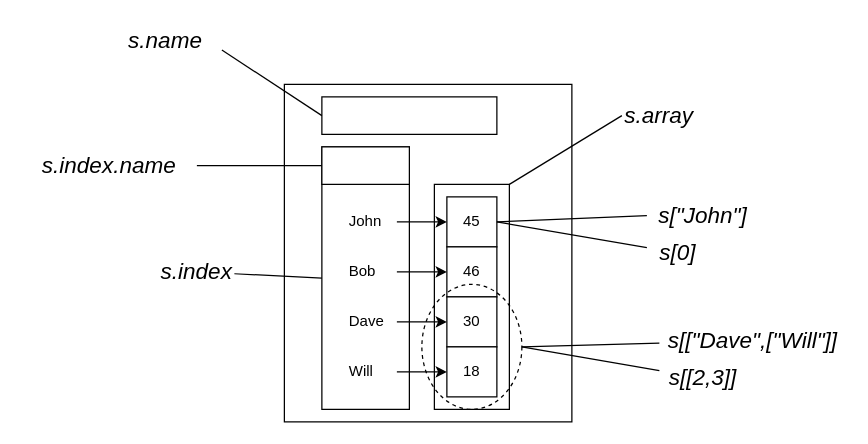
The diagram is 868 pixels wide and 444 high, and some of its shapes have lost their labels. The shapes that lost their labels are listed below. From the top down, each one's box as (x1, y1, x2, y2) in pixels, then its label:
(321, 96, 497, 134): Ages
(321, 146, 409, 184): Names
